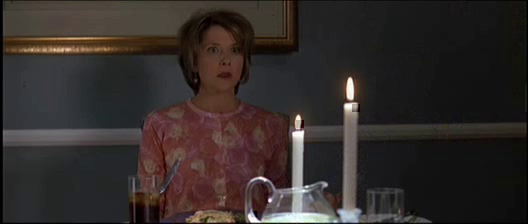face: (199, 36, 243, 90)
ms: (1, 1, 528, 224)
person: (137, 8, 289, 224)
